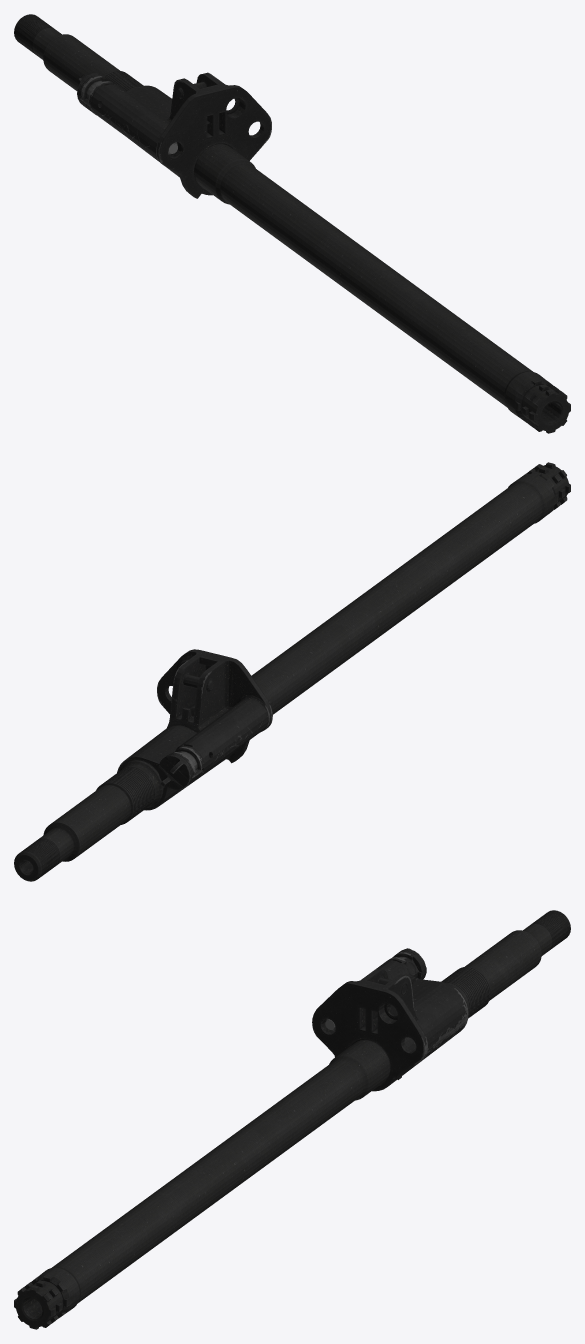
3 renders of one model, top to bottom at view 1: azimuth 30°, elevation 25°; view 2: azimuth 150°, elevation 25°; view 3: azimuth 330°, elevation 25°, orthographic.
Parts seen in each view (by area): view 1: TW_6333f05d1bc0e6217a0e9d34_PZ_Import; view 2: TW_6333f05d1bc0e6217a0e9d34_PZ_Import; view 3: TW_6333f05d1bc0e6217a0e9d34_PZ_Import.
Boxes of the visible parts, x1=… form: TW_6333f05d1bc0e6217a0e9d34_PZ_Import: x1=14, y1=14, x2=570, y2=433; TW_6333f05d1bc0e6217a0e9d34_PZ_Import: x1=14, y1=462, x2=570, y2=881; TW_6333f05d1bc0e6217a0e9d34_PZ_Import: x1=14, y1=910, x2=570, y2=1329.
Size of the model in its own units: 0.0301 by 0.2441 by 0.0263.
1 material, 1 textured.
